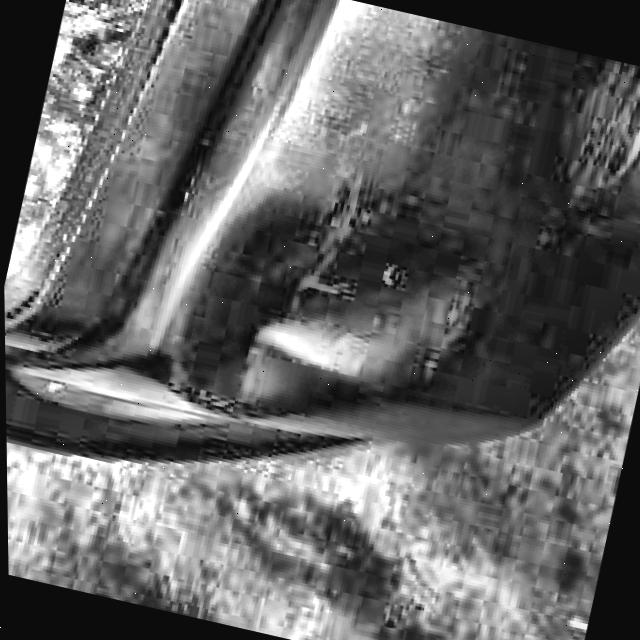bumper_dent: (156, 144, 498, 462)
